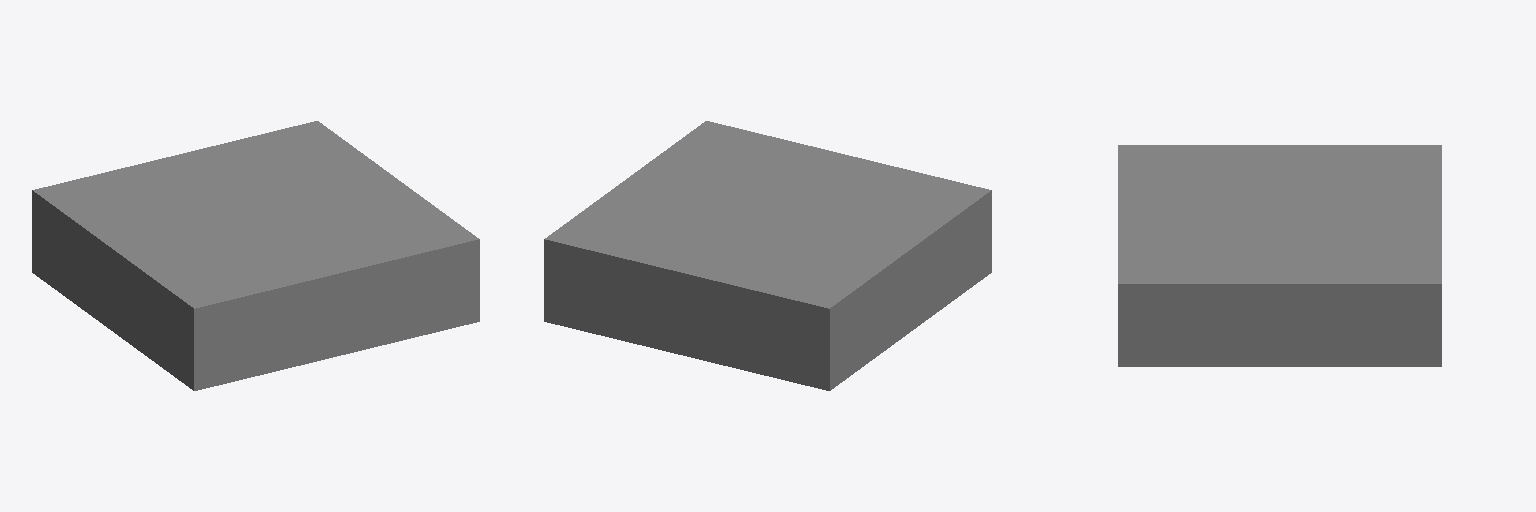
The model's file is Fundo.obj.
The picture shows the model from 3 angles: view 1: azimuth 30°, elevation 25°; view 2: azimuth 150°, elevation 25°; view 3: azimuth 270°, elevation 25°; orthographic projection.
Parts seen in each view (by area): view 1: Ground001; view 2: Ground001; view 3: Ground001.
Part boxes in pixels (x1,y1,x2,y2): Ground001: (32,121,479,390); Ground001: (544,121,991,390); Ground001: (1118,145,1441,366).
Bounding box in the file's own units: 552 × 153 × 543.